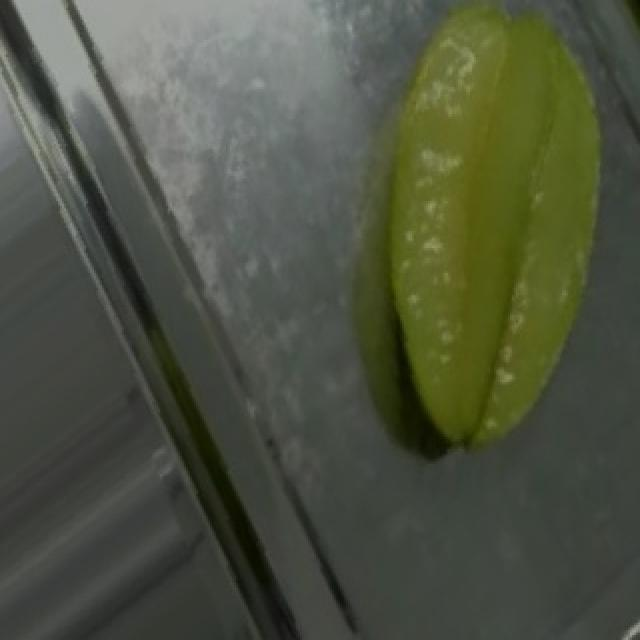fruit: (340, 0, 640, 375)
